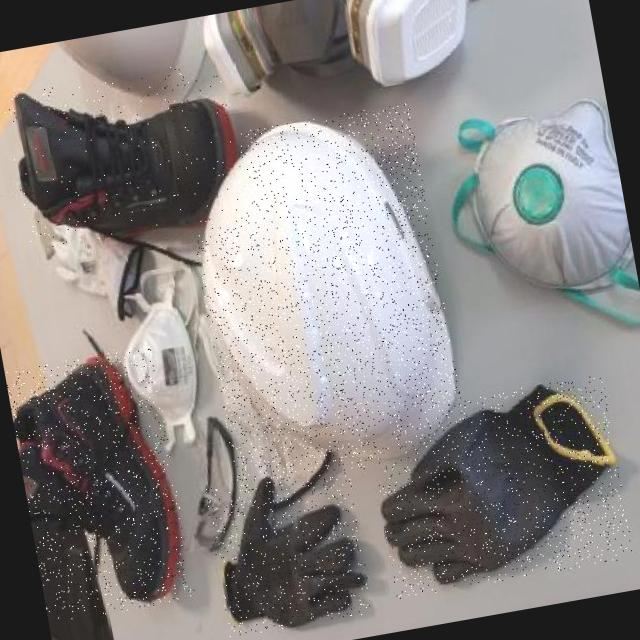boots: (4, 345, 195, 624), (0, 57, 251, 251)
helmet: (176, 101, 470, 492)
